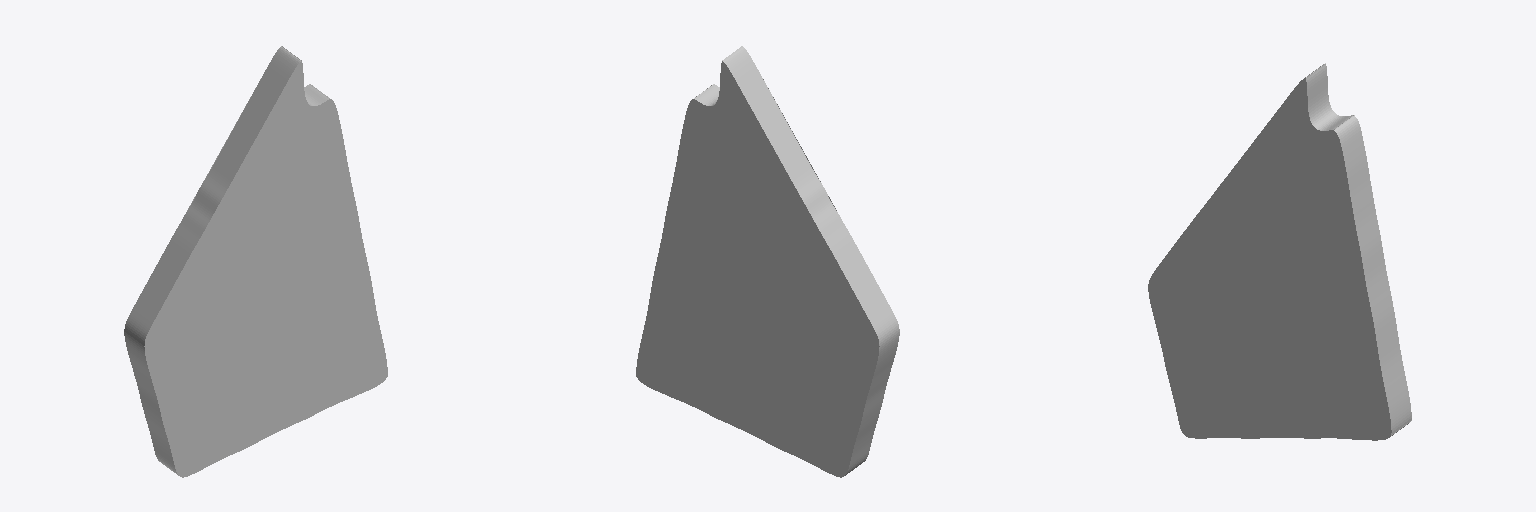
The picture shows the model from 3 angles: view 1: azimuth 30°, elevation 25°; view 2: azimuth 150°, elevation 25°; view 3: azimuth 330°, elevation 25°; orthographic projection.
Parts seen in each view (by area): view 1: 平面; view 2: 平面; view 3: 平面.
Part boxes in pixels (left/top/right/bottom): 平面: left=124, top=46, right=387, bottom=477; 平面: left=636, top=46, right=899, bottom=477; 平面: left=1148, top=63, right=1411, bottom=440.
Bounding box in the file's own units: 1.39 × 2.12 × 0.2.